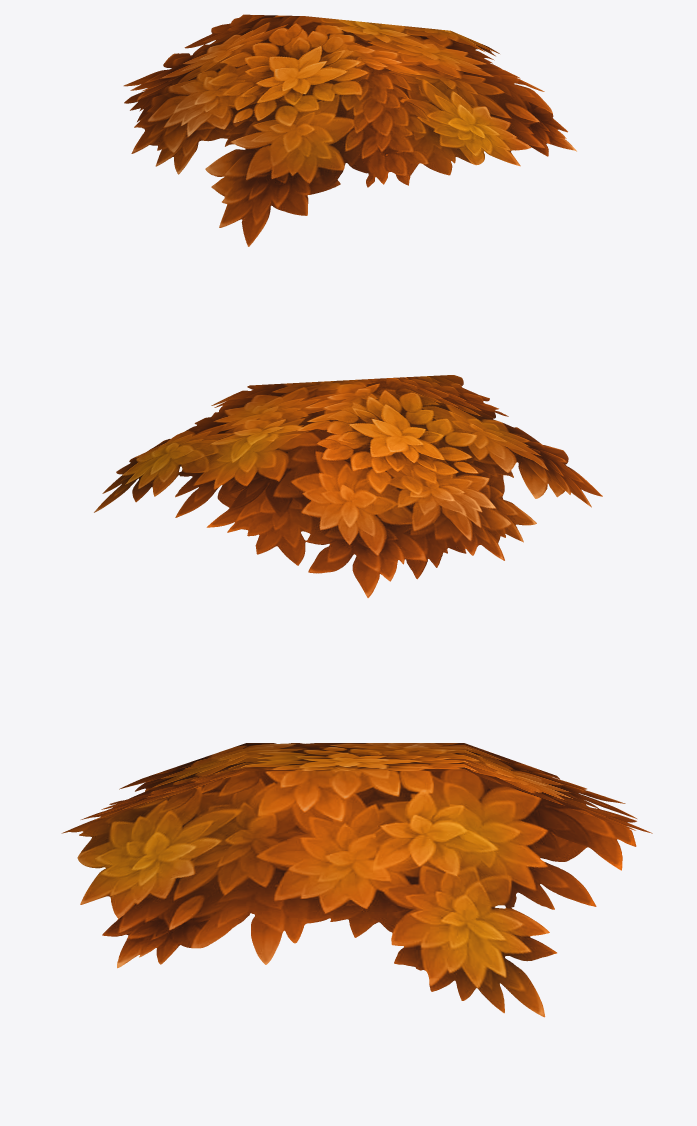
Rendered from Leaves Plane.fbx.
The picture shows the model from 3 angles, top to bottom: view 1: azimuth 30°, elevation 25°; view 2: azimuth 150°, elevation 25°; view 3: azimuth 270°, elevation 25°; orthographic projection. The views are drawn at different scales.
Visible parts, largest first — view 1: Plane001; view 2: Plane001; view 3: Plane001.
Part boxes in pixels (bbox=[...]): Plane001: bbox=[123, 14, 576, 246]; Plane001: bbox=[94, 375, 602, 598]; Plane001: bbox=[61, 743, 652, 1017].
Bounding box in the file's own units: 80 × 29.38 × 81.65.
